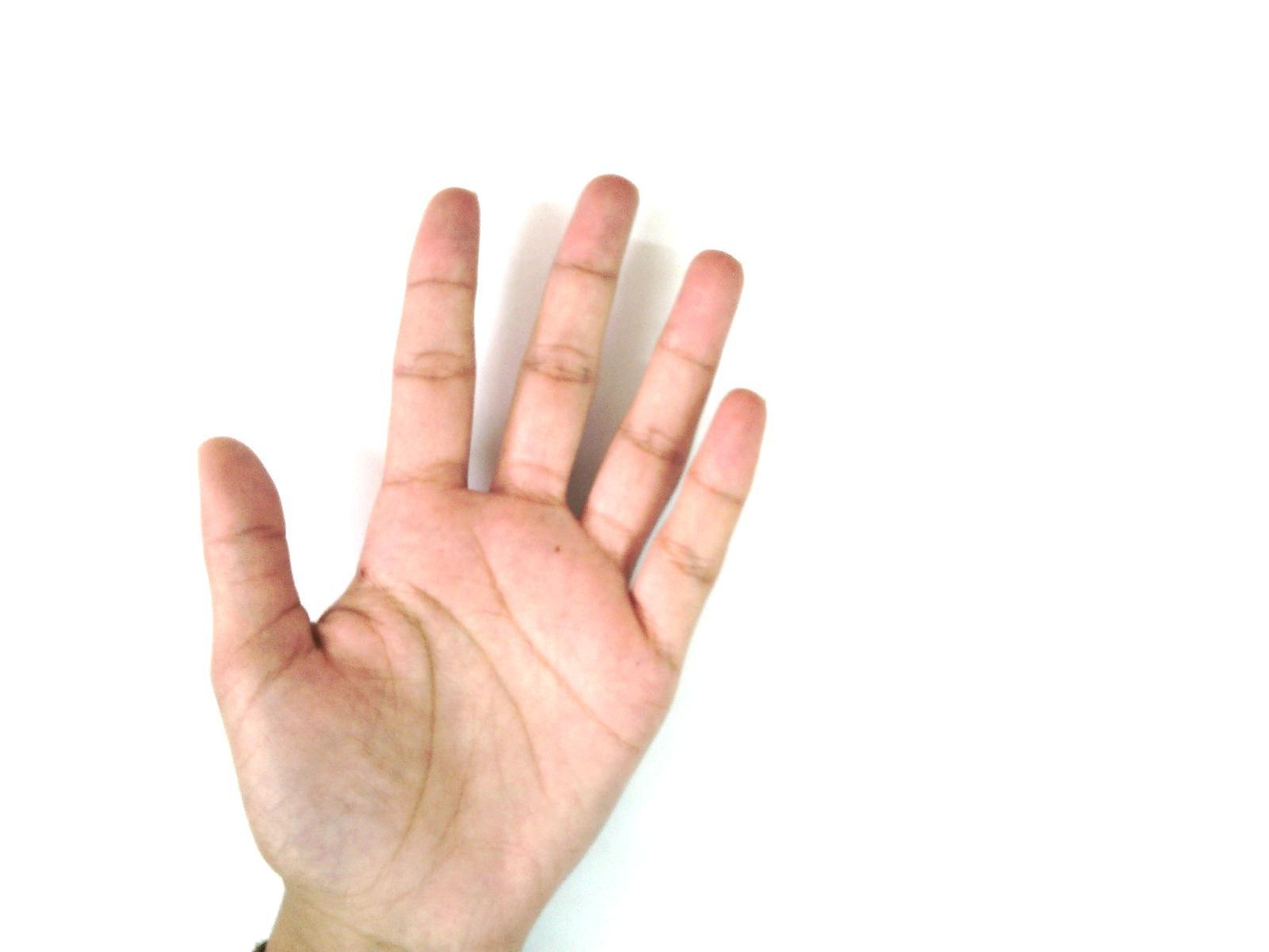open_palm: (195, 172, 770, 950)
